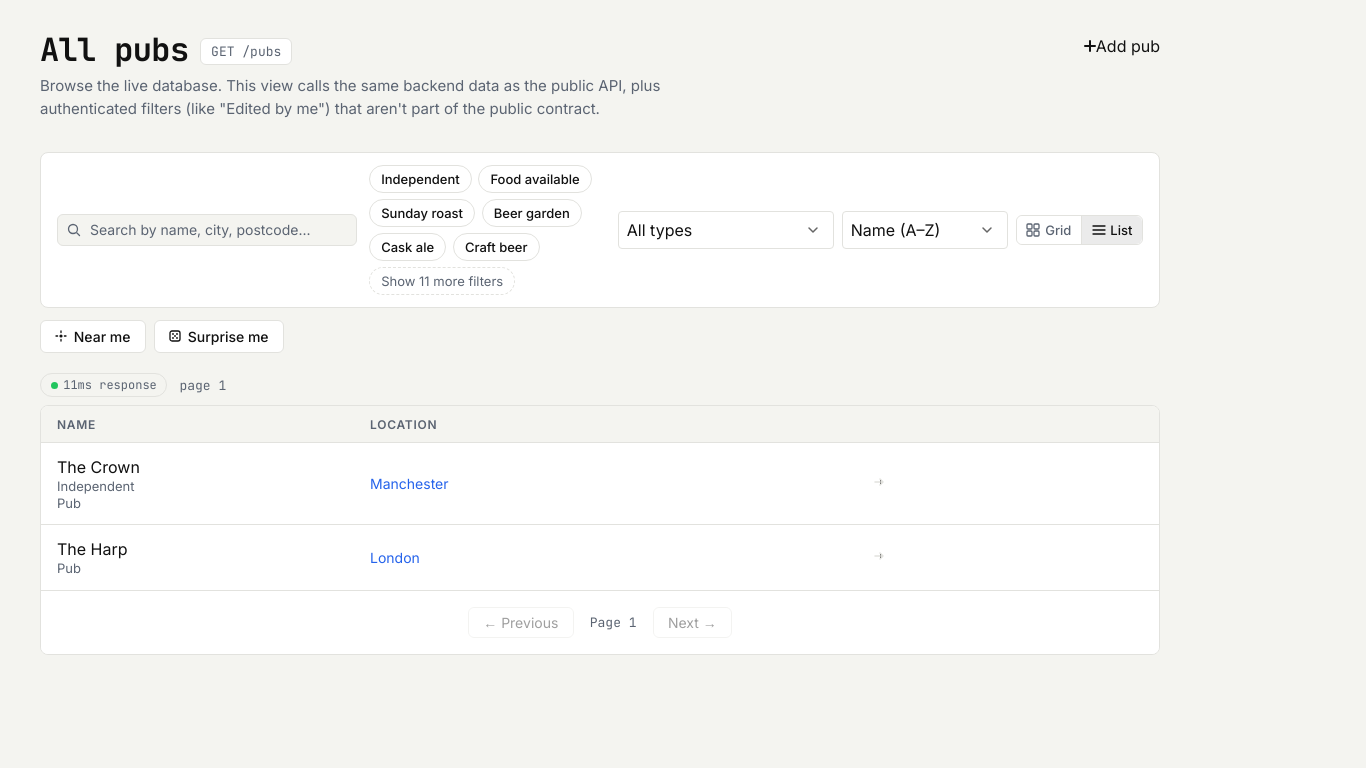
Test: Pubs page › Needs attention sort › sorts pubs by completeness score ascending and shows a completeness pill
Expected: the link "The Harp" is shown, [57, 539, 128, 559]
Select "Needs attention" in the dropdown named "Sort pubs" at (925, 230), box [842, 211, 1008, 249]
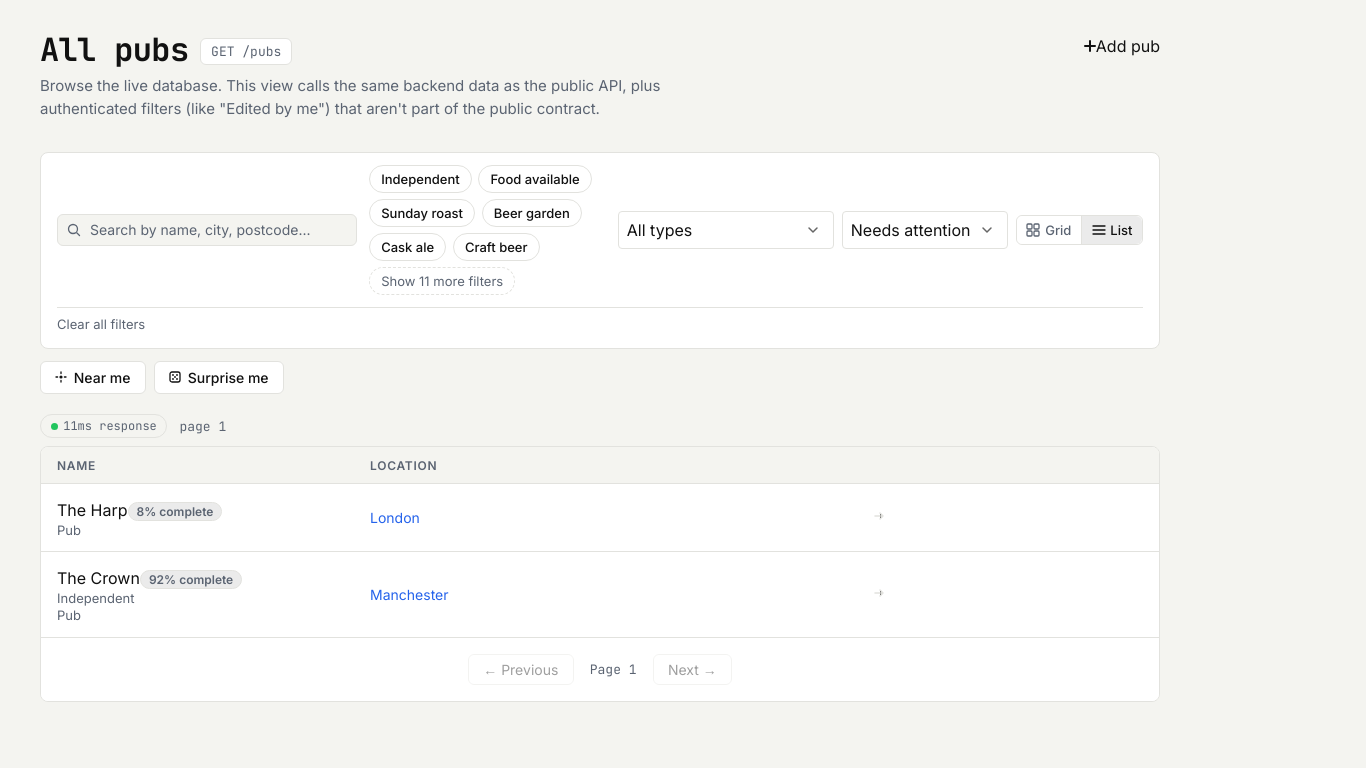
Expected: the row "The Harp 8% complete Pub London" is shown, [41, 484, 1159, 552]
Expected: the text "8% complete" is shown 2 times, [128, 502, 222, 521]; [140, 570, 242, 589]
